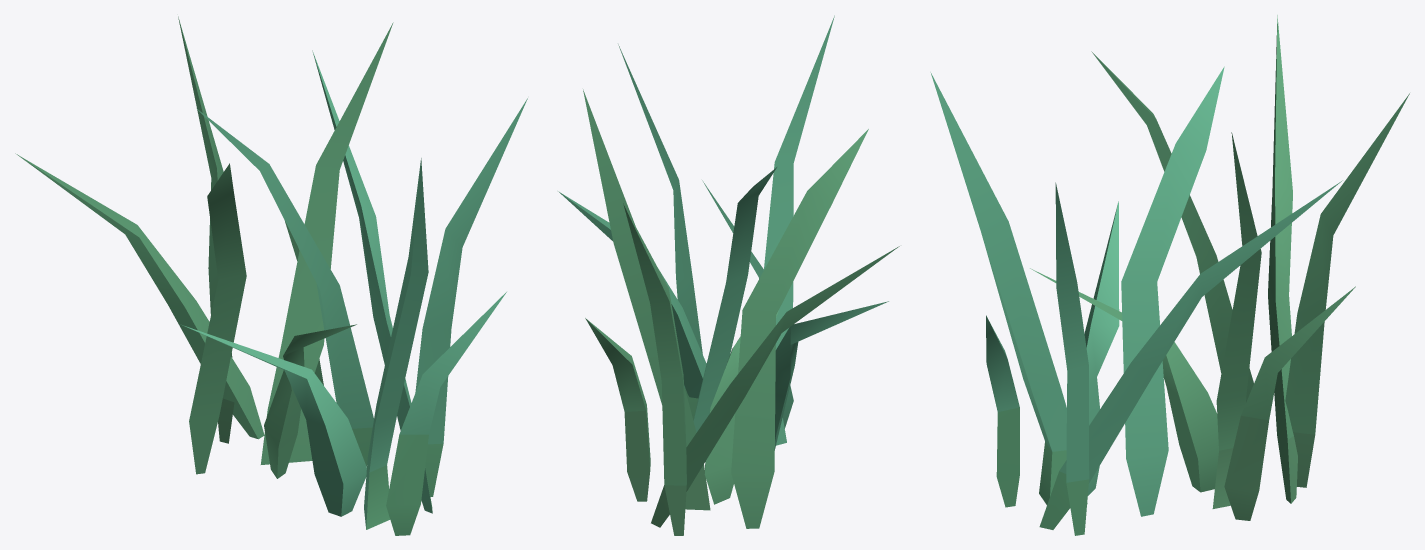
File: Grass_01.fbx
3 views of the same model, side by side, from view 1: azimuth 30°, elevation 25°; view 2: azimuth 150°, elevation 25°; view 3: azimuth 270°, elevation 25° (orthographic). The views are drawn at different scales.
Parts seen in each view (by area): view 1: Grass_01; view 2: Grass_01; view 3: Grass_01.
Part boxes in pixels (x1,y1,x2,y2): Grass_01: (15, 16, 527, 535); Grass_01: (558, 15, 899, 535); Grass_01: (930, 15, 1409, 535).
Size of the model in its own units: 1.07 by 1.04 by 1.07.
